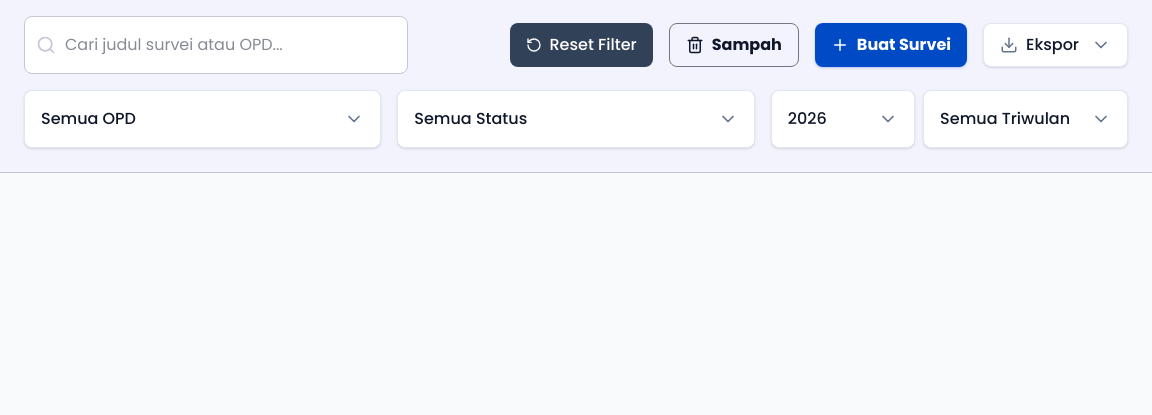
Scenario: SurveyFilterBar — pencarian OPD › dropdown OPD punya medan cari yang menyaring daftarnya
The image size is (1152, 415).
Click the button "Semua OPD" at x=88, y=118, box [24,90,381,148]
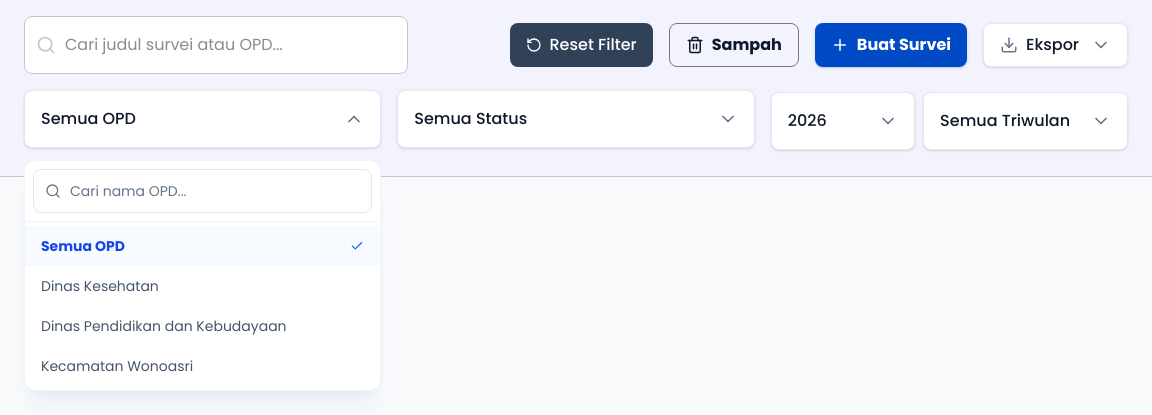
Type "pendidikan" into the field named "Cari OPD" at x=203, y=191, box [33,169,372,213]
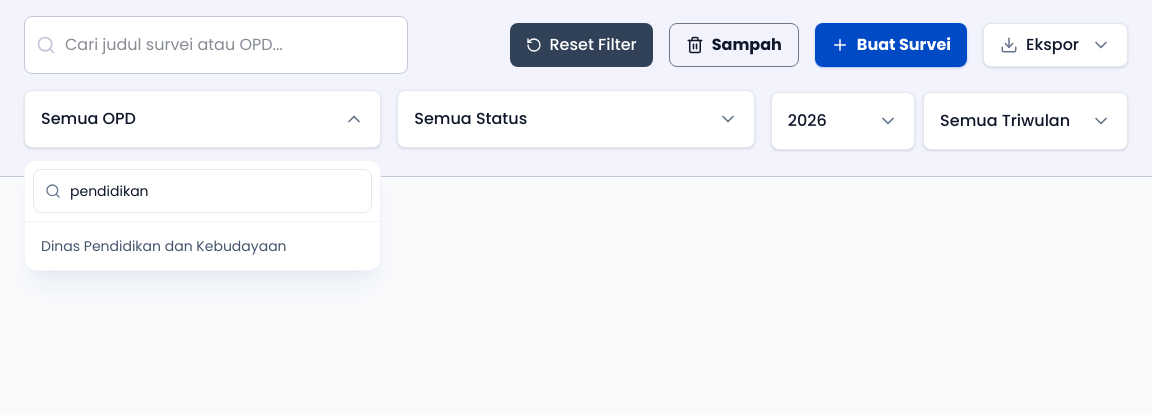
Check: the button "Dinas Pendidikan dan Kebudayaan" is shown, box [25,226,380,266]
Check: the button "Dinas Kesehatan" is gone
